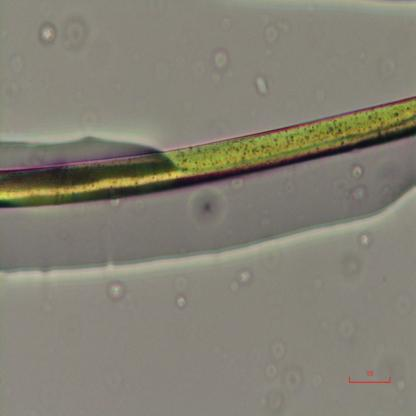Air bubble: (0, 140, 416, 282), (0, 125, 159, 172)
Background material: (263, 339, 301, 410), (188, 184, 228, 232), (3, 40, 30, 104), (262, 10, 290, 50), (63, 19, 90, 50), (348, 163, 367, 207), (78, 94, 100, 132), (335, 309, 357, 344), (342, 249, 366, 278), (210, 45, 232, 76), (231, 268, 252, 294), (377, 52, 396, 79), (106, 280, 128, 302), (38, 22, 58, 45), (357, 230, 373, 251), (255, 74, 269, 97), (219, 13, 235, 33), (174, 292, 186, 310)
Microfibre: (0, 97, 416, 209)
